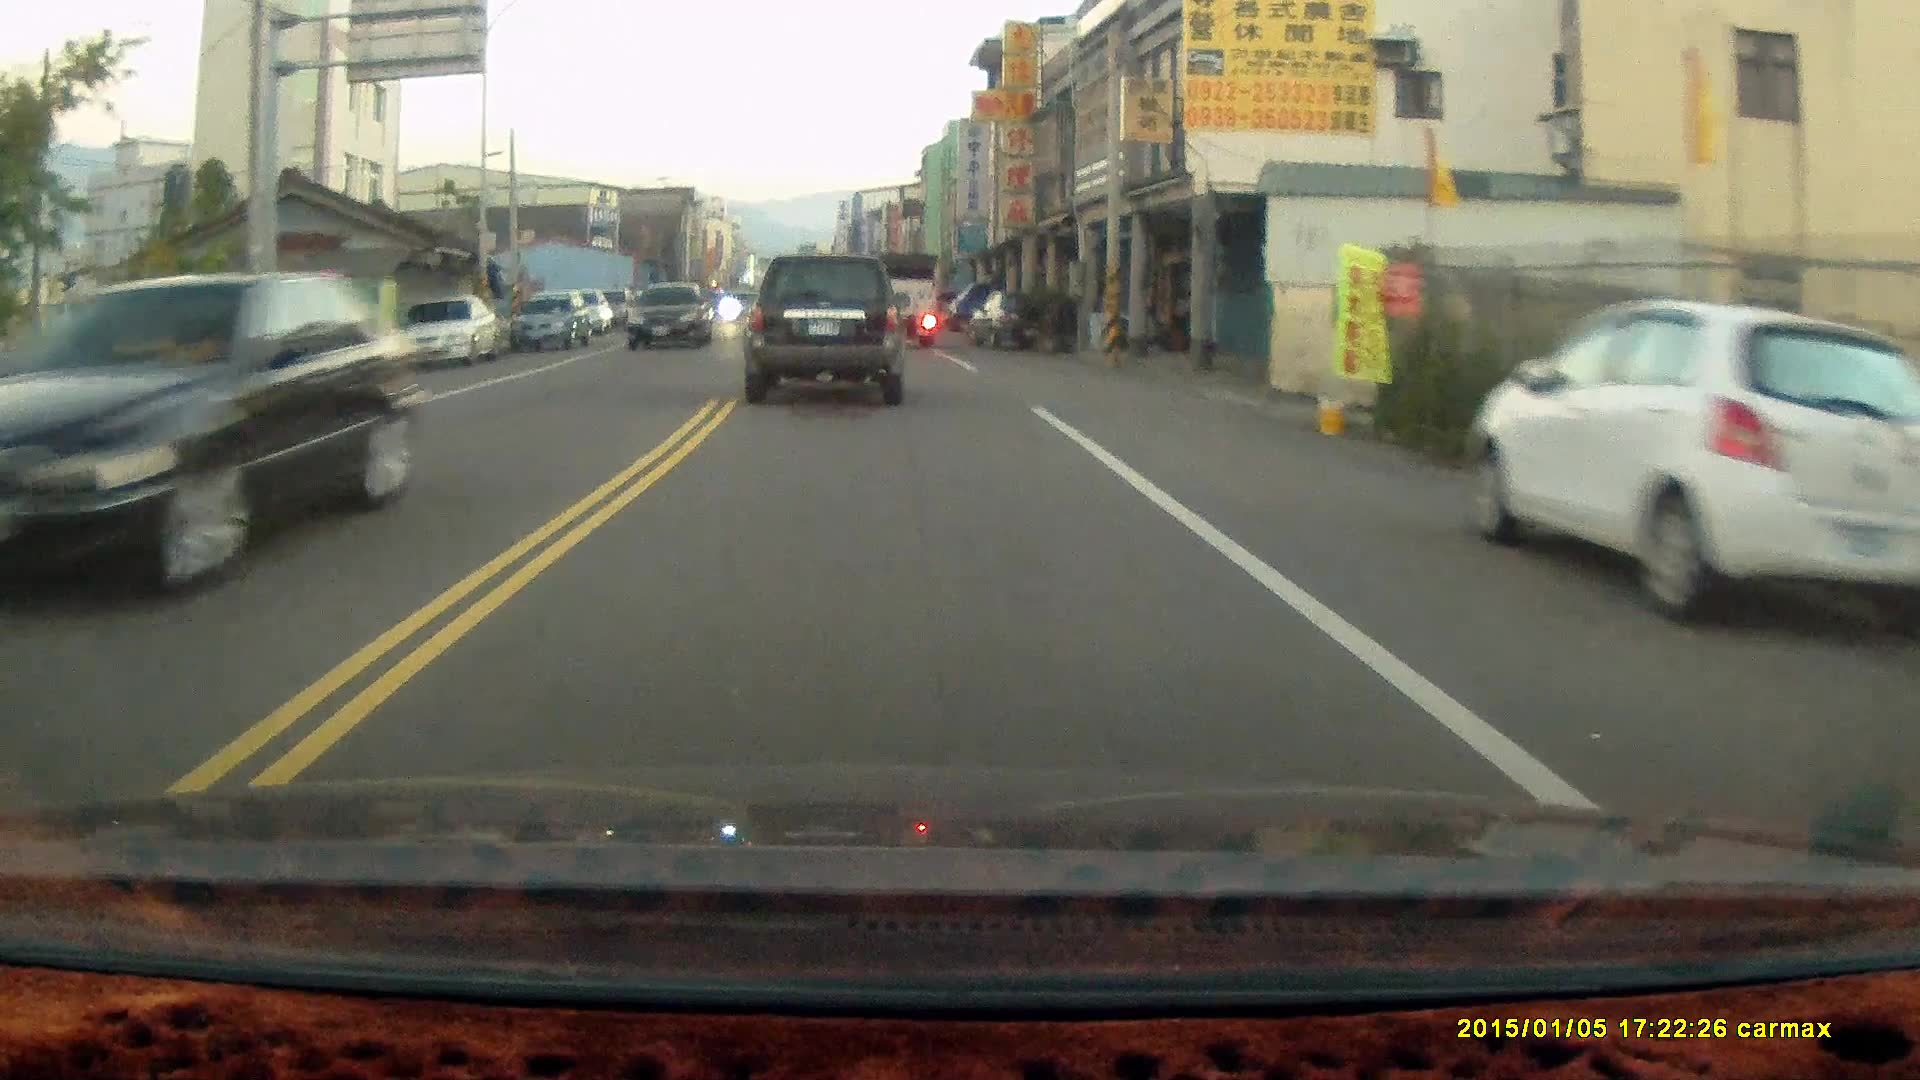vehicle: (1, 269, 433, 622), (1476, 306, 1920, 622), (745, 261, 913, 417), (860, 252, 944, 349), (398, 295, 498, 367), (628, 287, 717, 353), (506, 290, 592, 355)
